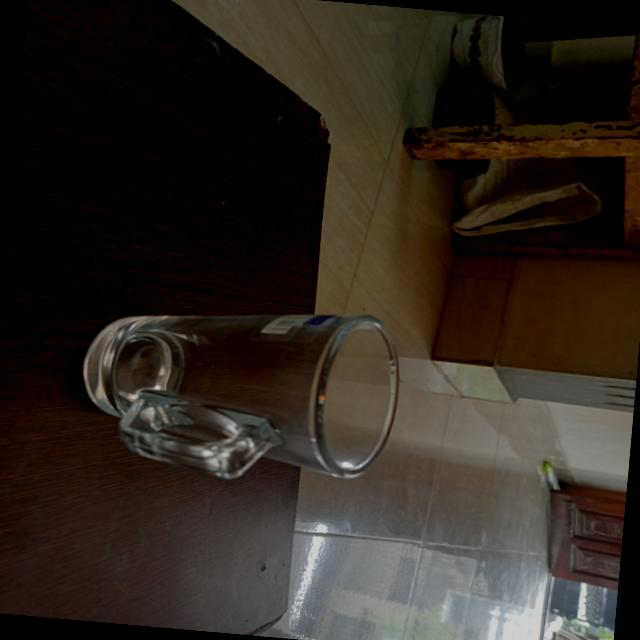glass-VX4N: (70, 290, 408, 495)
